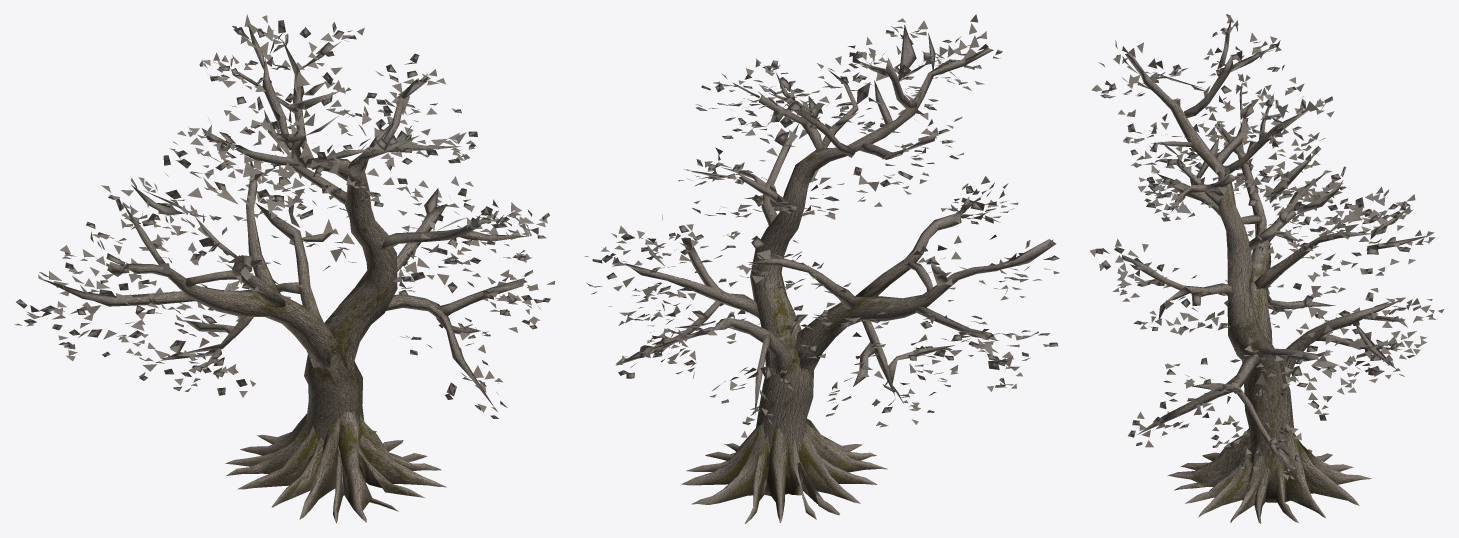
File: Meshy_AI_Silent_Winter_Oak_0915200402_texture.glb
3 views of the same model, side by side, from view 1: azimuth 30°, elevation 25°; view 2: azimuth 150°, elevation 25°; view 3: azimuth 270°, elevation 25° (orthographic). The views are drawn at different scales.
Bounding box in the file's own units: 1 × 0.9824 × 0.7598.
Materials: 1 (1 with a texture image).
